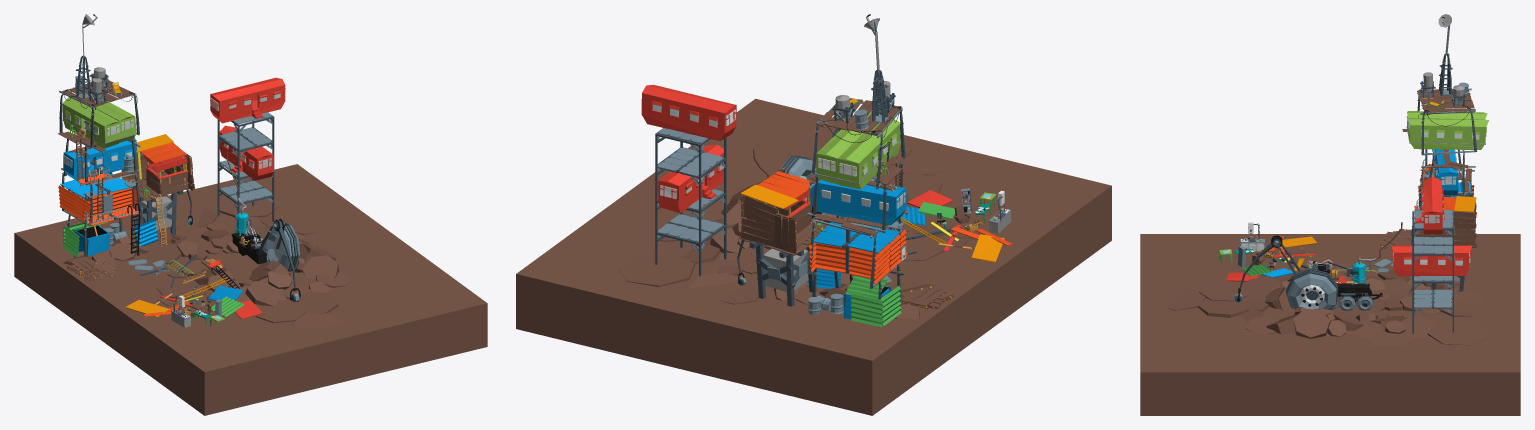
Rendered from wip--stacks-v0-3-by-sirkitree-8x8D_eRFaaD.glb.
3 views of the same model, side by side, from view 1: azimuth 30°, elevation 25°; view 2: azimuth 150°, elevation 25°; view 3: azimuth 270°, elevation 25° (orthographic). The views are drawn at different scales.
Visible parts, largest first — view 1: group76844206, group1551427337, group1333070101, group1878359491, group1898191407, group1010540645, group1563616392, group147371195, group1825186942, group52452223, group1200159385, group841565969 (+8 smaller); view 2: group76844206, group1551427337, group1333070101, group1898191407, group1878359491, group1563616392, group52452223, group1519530755, group903424196, group1825186942, group165078457, group263589881 (+10 smaller); view 3: group76844206, group1333070101, group1010540645, group1551427337, group1519530755, group52452223, group417197514, group1898191407, group1200159385, group147371195, group841565969, group1527162662 (+11 smaller).
Boxes of the visible parts, x1,y1,x2,y2 form: group76844206: (14, 164, 487, 415); group1551427337: (210, 77, 285, 178); group1333070101: (217, 125, 274, 221); group1878359491: (62, 97, 120, 148); group1898191407: (63, 137, 136, 181); group1010540645: (231, 222, 300, 271); group1563616392: (135, 190, 183, 235); group147371195: (255, 300, 306, 323); group1825186942: (73, 222, 110, 256); group52452223: (219, 197, 278, 217); group1200159385: (288, 291, 338, 314); group841565969: (245, 281, 286, 306); group76844206: (516, 98, 1111, 415); group1551427337: (641, 84, 736, 211); group1333070101: (655, 144, 726, 275); group1898191407: (809, 172, 906, 225); group1878359491: (837, 119, 900, 189); group1563616392: (749, 242, 816, 306); group52452223: (617, 252, 694, 286); group1519530755: (816, 112, 871, 184); group903424196: (851, 293, 883, 327); group1825186942: (843, 275, 890, 319); group165078457: (903, 232, 943, 260); group263589881: (775, 214, 797, 253); group76844206: (1140, 234, 1520, 415); group1333070101: (1392, 245, 1472, 333); group1010540645: (1285, 269, 1382, 310); group1551427337: (1412, 177, 1454, 281); group1519530755: (1408, 117, 1488, 149); group52452223: (1427, 317, 1489, 345); group417197514: (1293, 308, 1329, 338); group1898191407: (1432, 149, 1458, 194); group1200159385: (1198, 298, 1248, 317); group147371195: (1199, 279, 1247, 301); group841565969: (1240, 276, 1282, 301); group1527162662: (1166, 289, 1206, 310).
Bounding box in the file's own units: 6.76 × 6.41 × 7.87.
